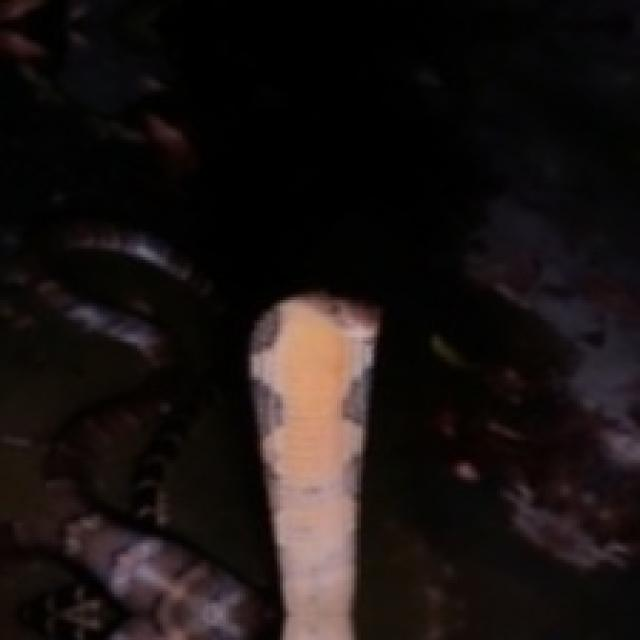king cobra: (14, 232, 274, 640), (251, 292, 379, 639)
